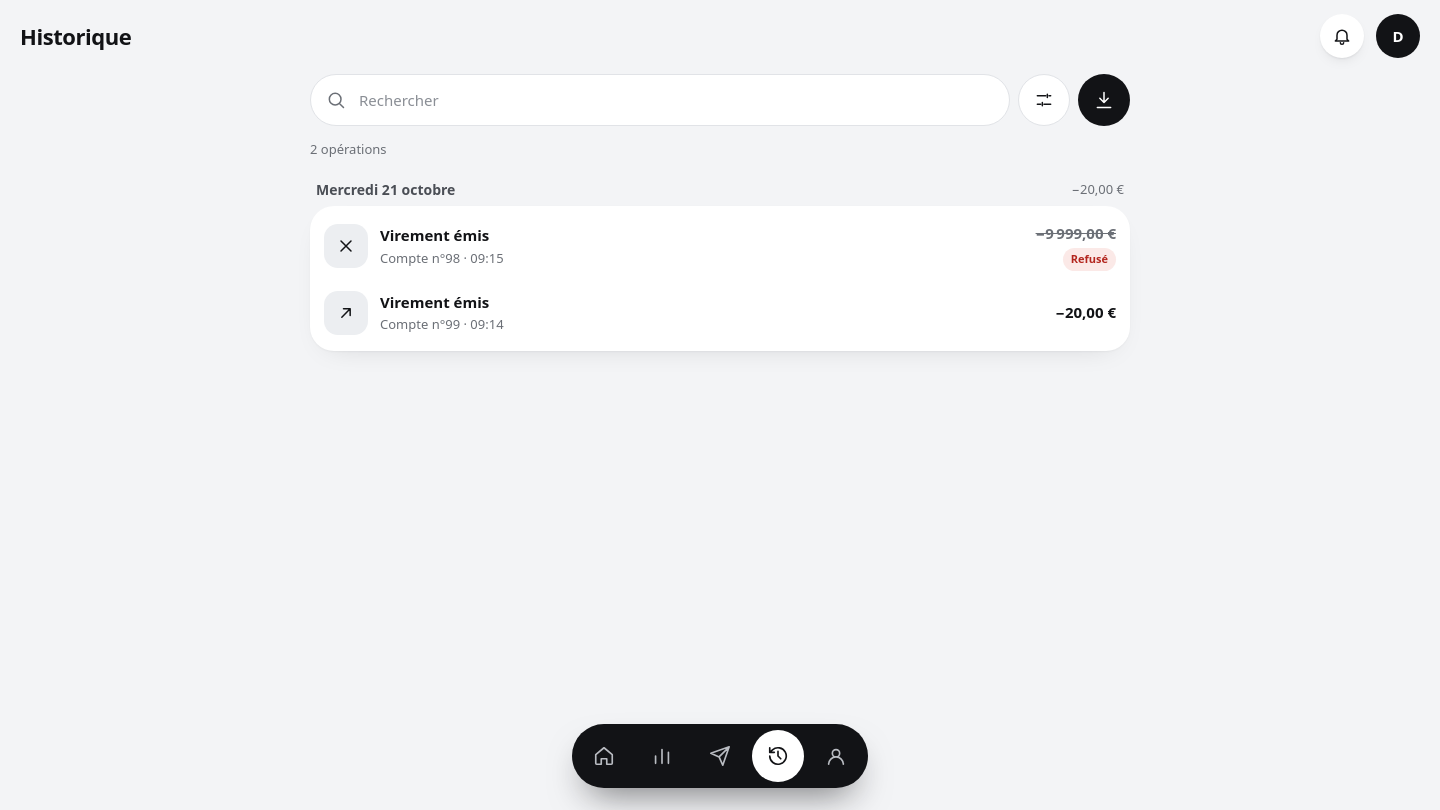
Test: Front - espace client › historique mobile : feuille de filtres et pastille de filtre actif
The width and height of the screenshot is (1440, 810).
Click the button named "Filtres" at (1044, 100), box [1018, 74, 1070, 126]
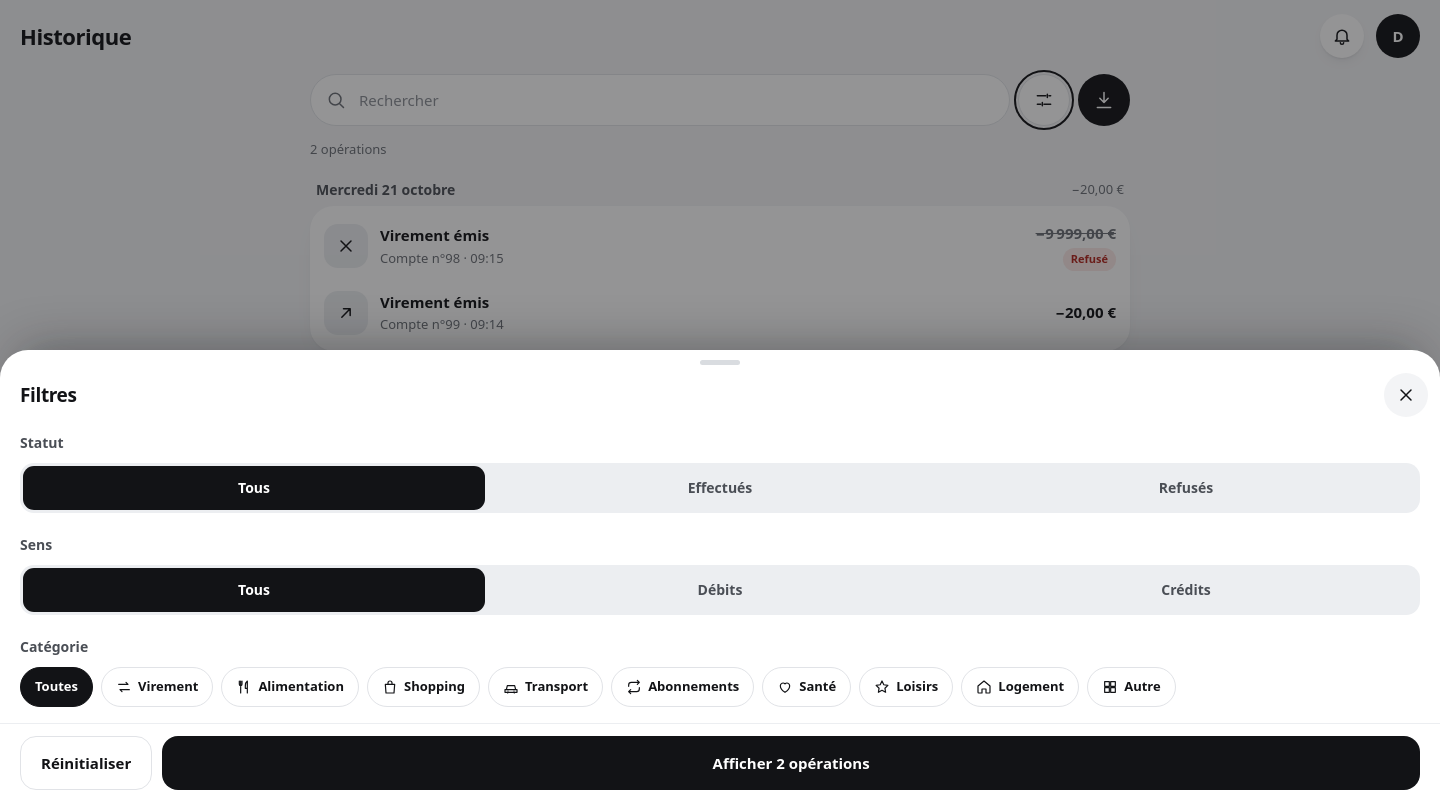
Click the button "Refusés" at (1186, 488), box [955, 466, 1417, 510]
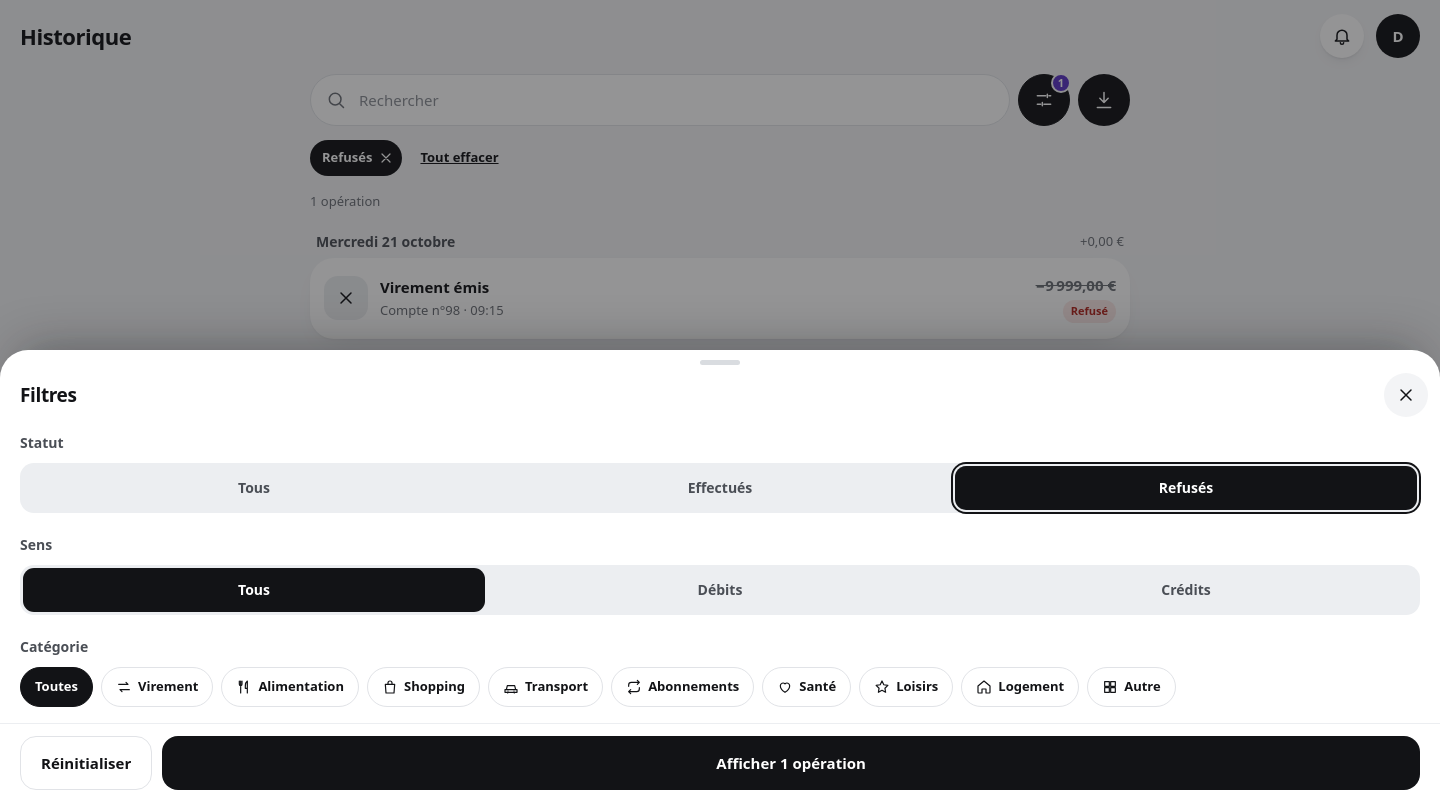
Click the button "Afficher 1 opération" at (791, 763), box [162, 736, 1420, 790]
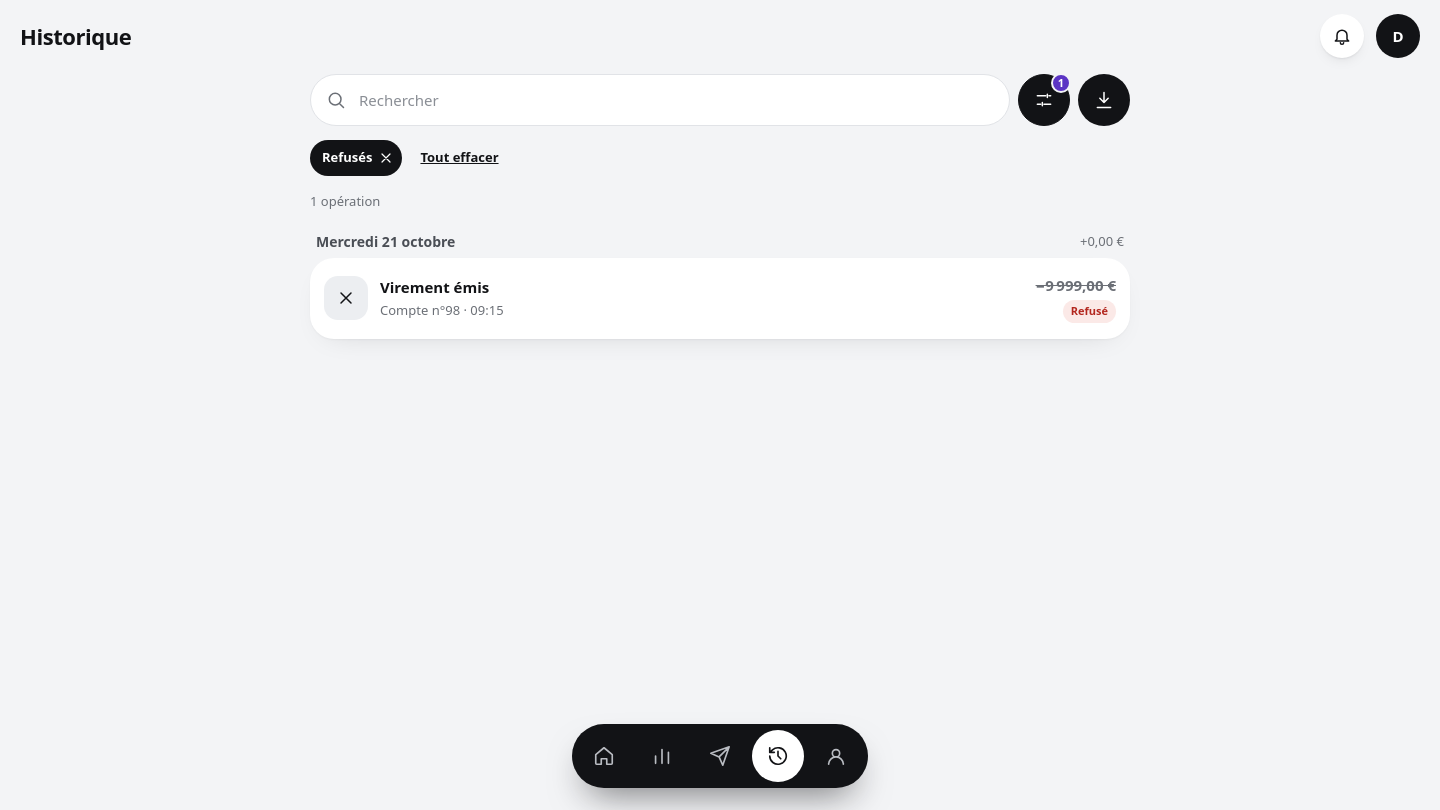
Now the button named "Filtres, 1 actifs" is shown, box [1018, 74, 1070, 126]
Now the dialog is gone
Click the button with aria-label "Retirer le filtre Refusés" at (356, 158), box [310, 140, 402, 176]
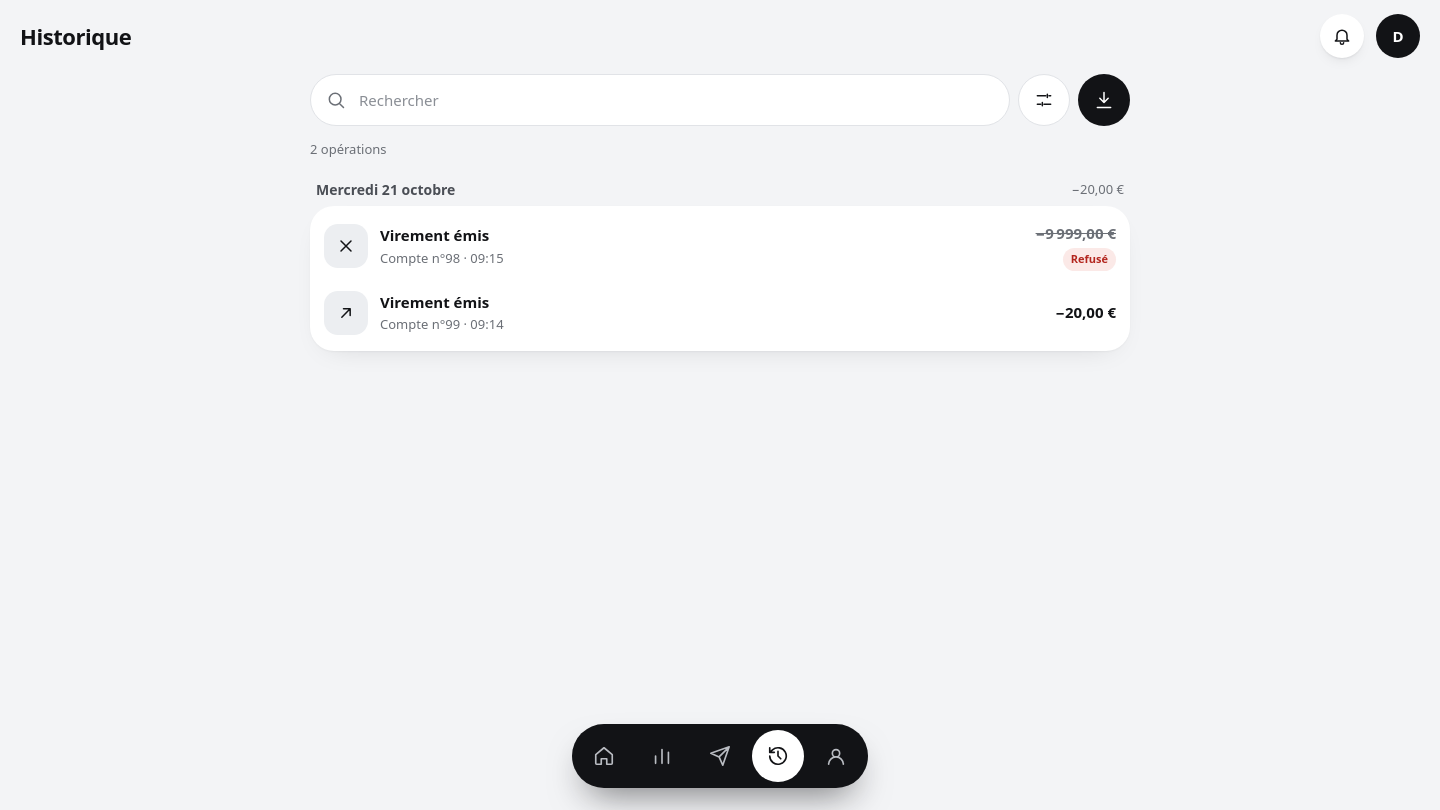
Now the text "2 opérations" is shown, box [310, 140, 387, 158]
